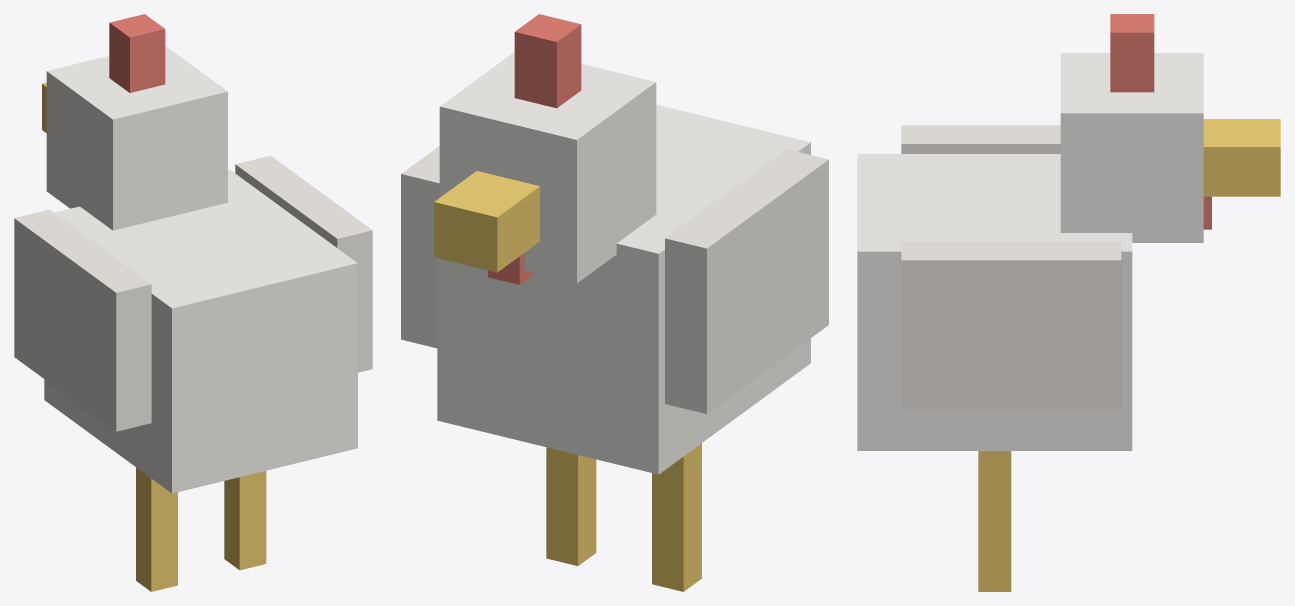
Rendered from chicken.glb.
The picture shows the model from 3 angles, left to right: view 1: azimuth 30°, elevation 25°; view 2: azimuth 150°, elevation 25°; view 3: azimuth 270°, elevation 25°; orthographic projection. The views are drawn at different scales.
Visible parts, largest first — view 1: body, headmesh, wingmesh_0, wingmesh_1, legmesh_0, legmesh_1, comb; view 2: body, wingmesh_0, headmesh, beak, wingmesh_1, legmesh_0, comb, legmesh_1, wattle; view 3: body, wingmesh_1, headmesh, beak, legmesh_1, wingmesh_0, comb.
Part boxes in pixels (box(x1,y1,x2,y2)): body: box(44, 170, 357, 493); headmesh: box(46, 46, 227, 230); wingmesh_0: box(14, 209, 151, 431); wingmesh_1: box(235, 155, 372, 372); legmesh_0: box(136, 467, 177, 591); legmesh_1: box(224, 471, 266, 570); comb: box(109, 14, 165, 92); body: box(437, 104, 810, 474); wingmesh_0: box(665, 149, 828, 413); headmesh: box(439, 52, 656, 283); beak: box(434, 171, 539, 272); wingmesh_1: box(401, 146, 439, 348); legmesh_0: box(652, 443, 701, 591); comb: box(514, 14, 581, 108); legmesh_1: box(546, 447, 596, 565); wattle: box(488, 253, 534, 284); body: box(857, 154, 1132, 450); wingmesh_1: box(901, 241, 1121, 409); headmesh: box(1060, 53, 1203, 242); beak: box(1203, 119, 1280, 196); legmesh_1: box(978, 451, 1011, 591); wingmesh_0: box(901, 125, 1060, 153); comb: box(1110, 14, 1154, 92).
Size of the model in its own units: 0.58 by 1.08 by 0.77.
